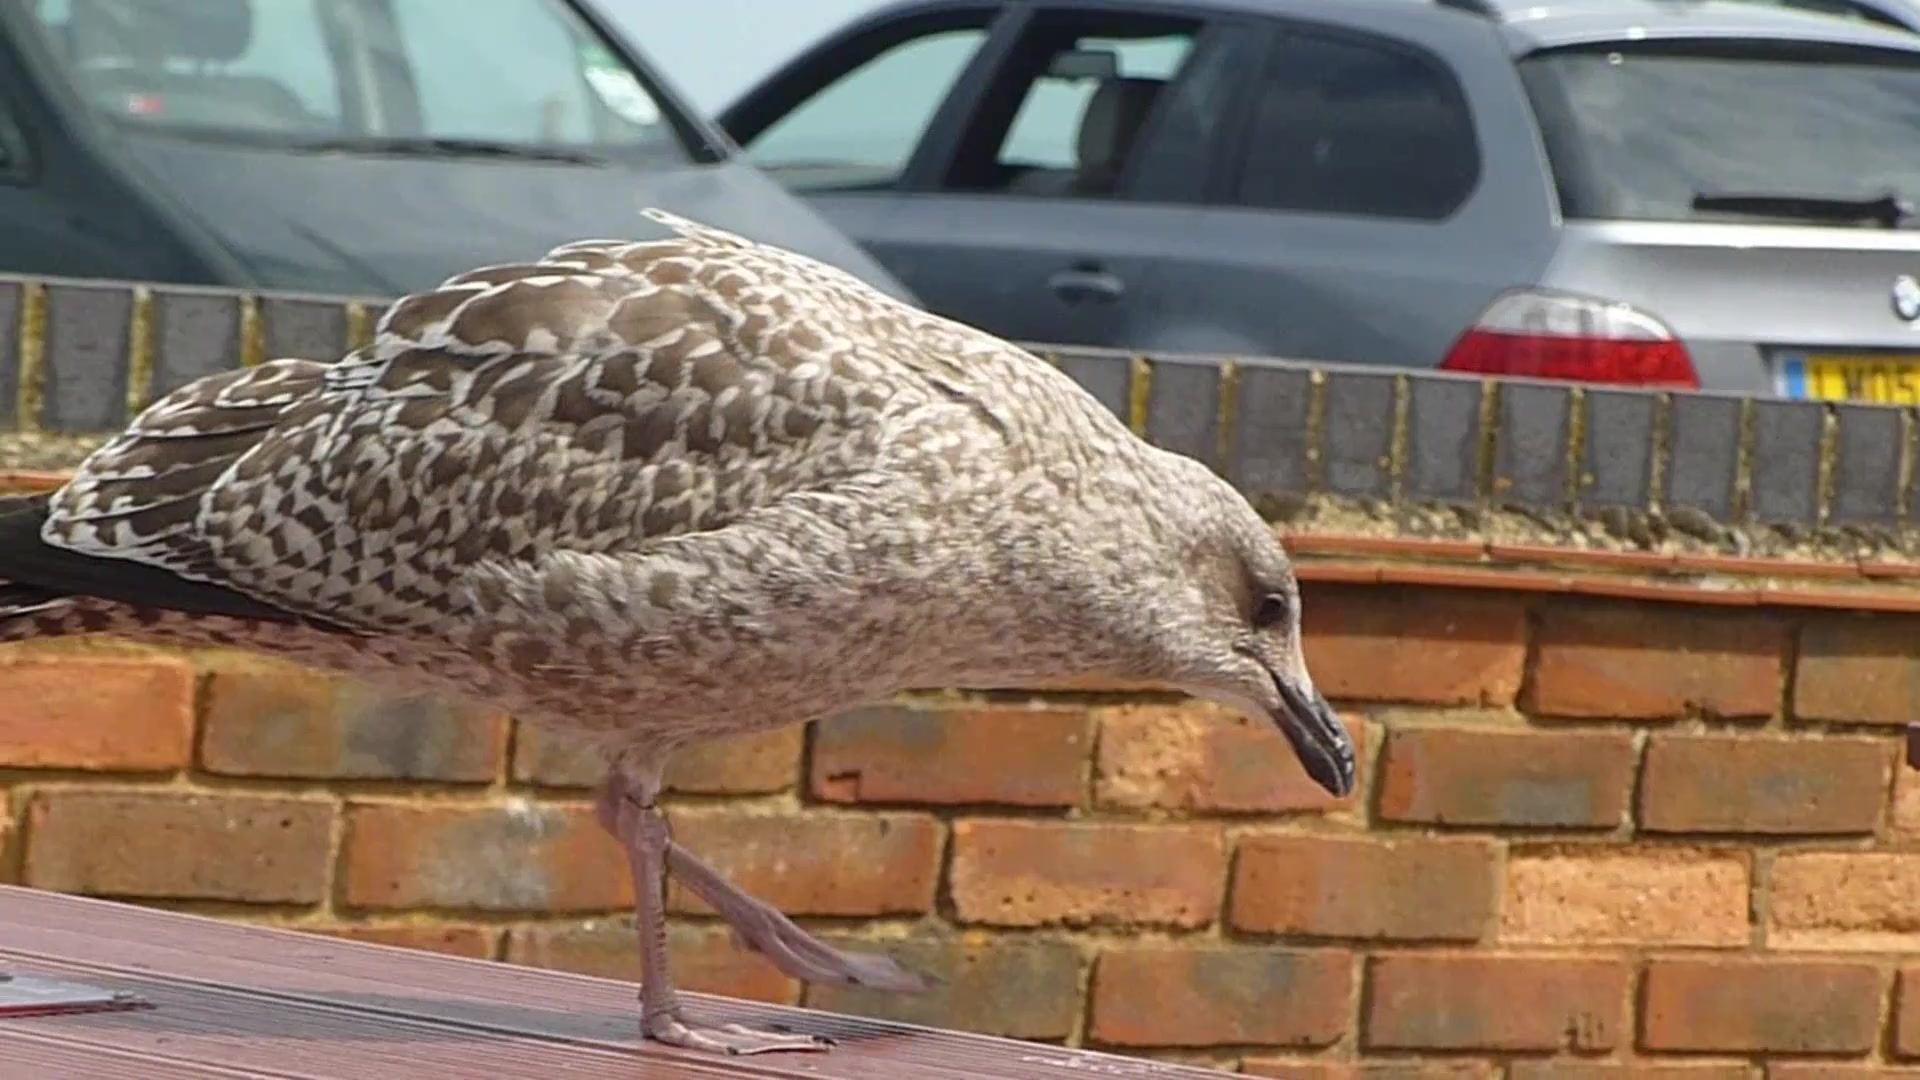bird: (1, 208, 1360, 1060)
